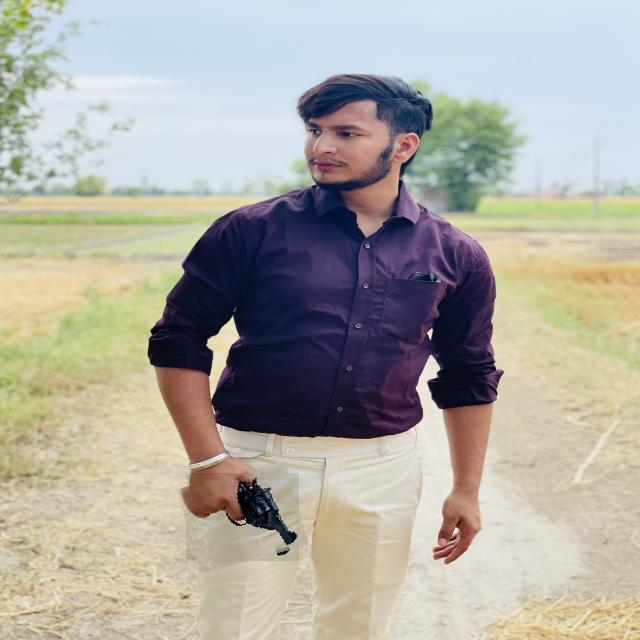handgun: (182, 467, 304, 568)
